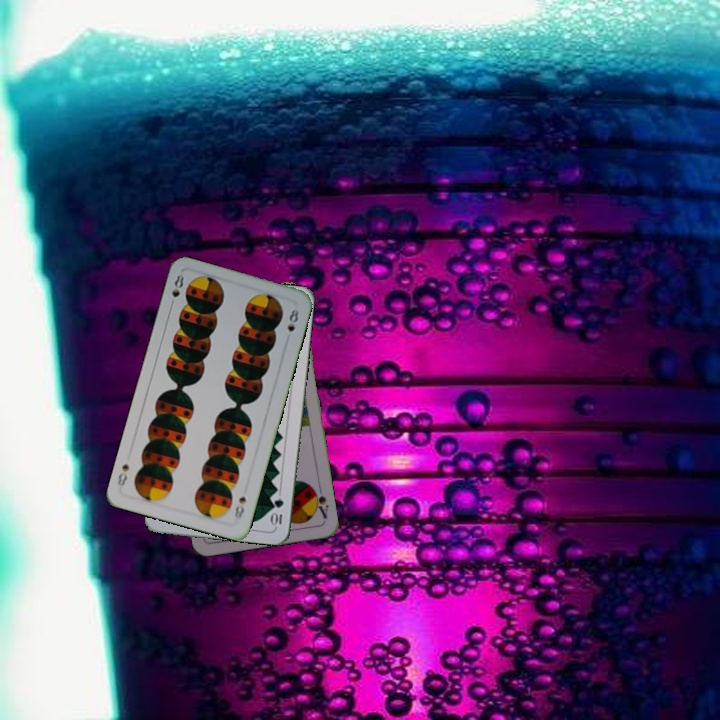G10: (269, 494, 286, 529)
S8: (166, 270, 186, 310), (230, 492, 249, 521)
SA: (309, 483, 331, 521)
